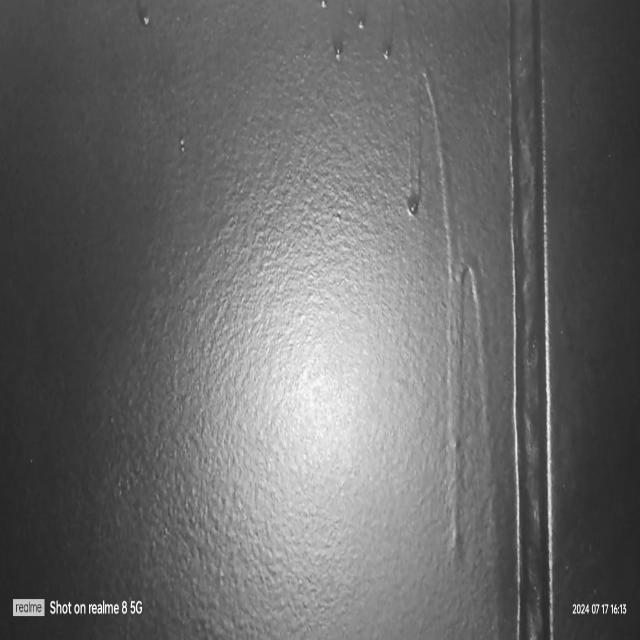paint drips: (403, 0, 503, 617), (309, 0, 399, 71), (126, 0, 168, 45)
